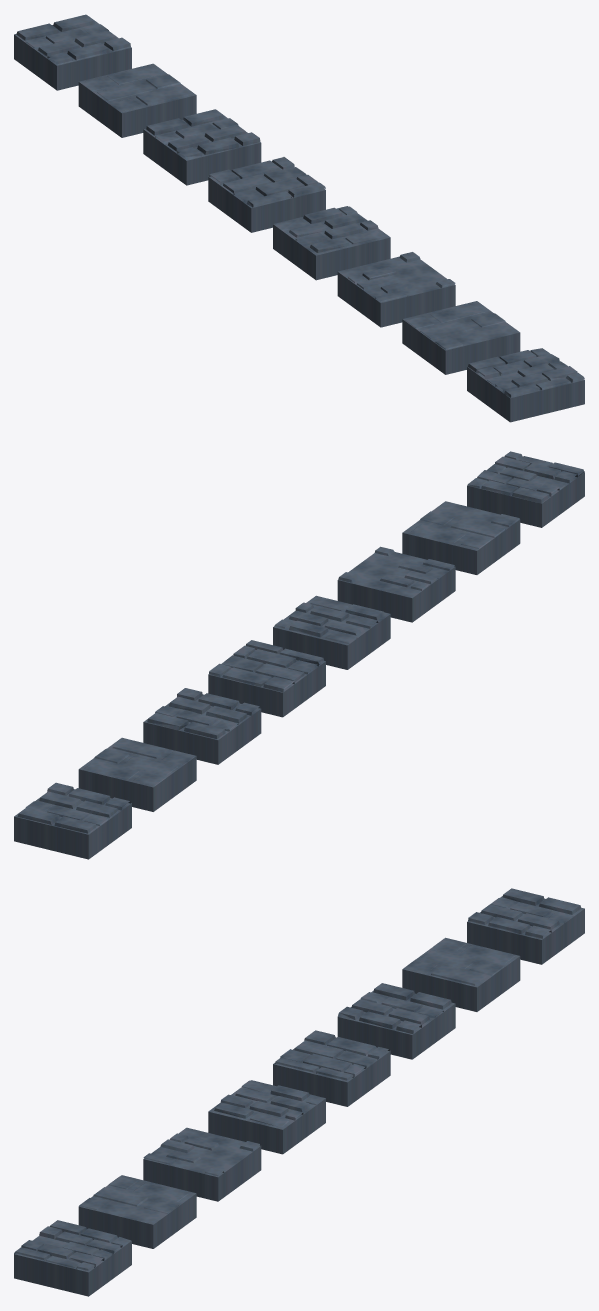
Rendered from temp_mesh_lib.gltf.
The picture shows the model from 3 angles, top to bottom: view 1: azimuth 30°, elevation 25°; view 2: azimuth 150°, elevation 25°; view 3: azimuth 330°, elevation 25°; orthographic projection.
Parts seen in each view (by area): view 1: floor_tile_8, floor_tile_1, floor_tile_3, floor_tile_4, floor_tile_5, floor_tile_6, floor_tile_2, floor_tile_7; view 2: floor_tile_1, floor_tile_3, floor_tile_4, floor_tile_8, floor_tile_6, floor_tile_7, floor_tile_2, floor_tile_5; view 3: floor_tile_8, floor_tile_1, floor_tile_3, floor_tile_4, floor_tile_6, floor_tile_5, floor_tile_7, floor_tile_2.
Boxes of the visible parts, x1,y1,x2,y2 form: floor_tile_8: (467,348,584,422); floor_tile_1: (14,14,131,90); floor_tile_3: (143,109,261,185); floor_tile_4: (208,157,325,232); floor_tile_5: (273,206,390,280); floor_tile_6: (337,252,455,327); floor_tile_2: (78,63,196,137); floor_tile_7: (402,301,520,374); floor_tile_1: (14,782,131,859); floor_tile_3: (143,688,261,764); floor_tile_4: (208,640,325,717); floor_tile_8: (467,451,584,527); floor_tile_6: (337,546,455,622); floor_tile_7: (402,501,520,574); floor_tile_2: (78,737,196,811); floor_tile_5: (273,595,390,669); floor_tile_8: (14,1220,131,1296); floor_tile_1: (467,888,584,964); floor_tile_3: (337,983,455,1059); floor_tile_4: (273,1030,390,1106); floor_tile_6: (143,1127,261,1201); floor_tile_5: (208,1080,325,1154); floor_tile_7: (78,1175,196,1248); floor_tile_2: (402,937,520,1011).
Bounding box in the file's own units: 2 × 0.7248 × 23.
8 materials, 8 textured.
